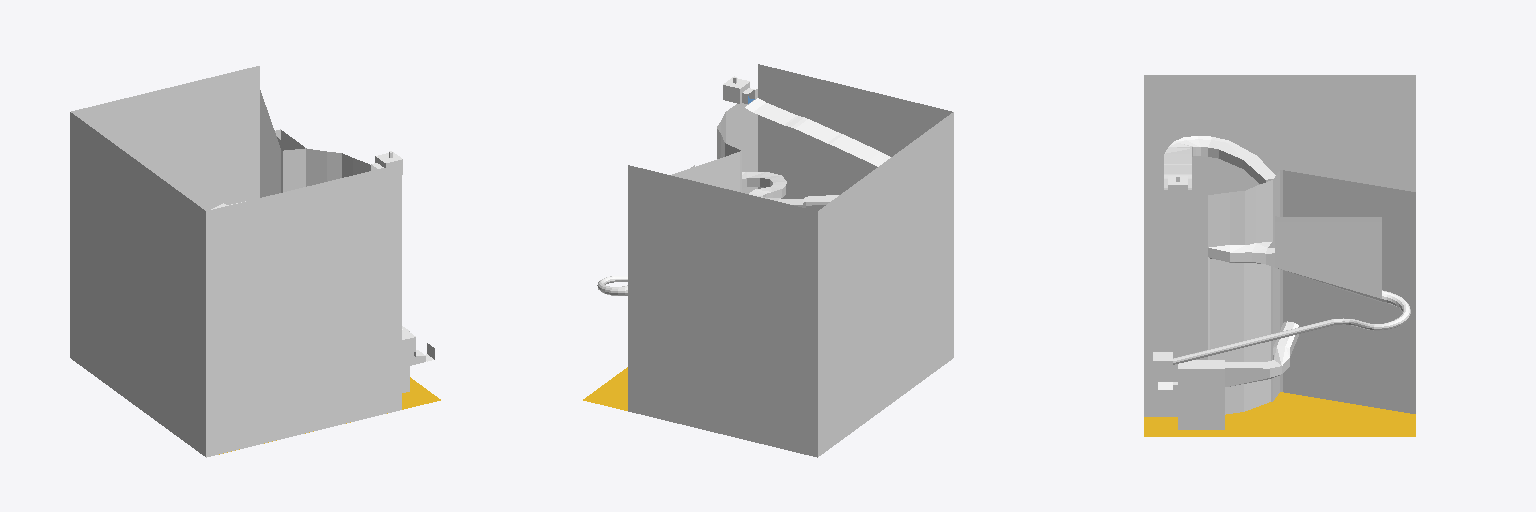
File: Cool Cool Mountain Area 2.obj
3 views of the same model, side by side, from view 1: azimuth 30°, elevation 25°; view 2: azimuth 150°, elevation 25°; view 3: azimuth 270°, elevation 25° (orthographic).
Bounding box in the file's own units: 32766 × 32766 × 32766.